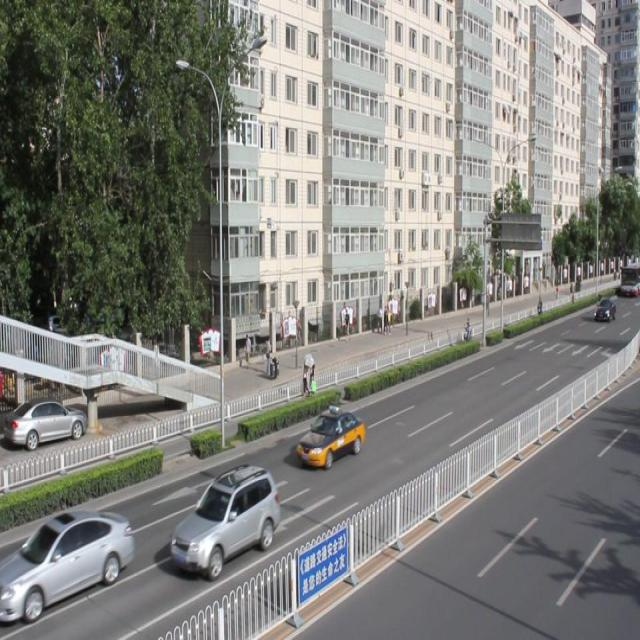car: (1, 505, 135, 613), (169, 462, 280, 577), (295, 404, 365, 468)
